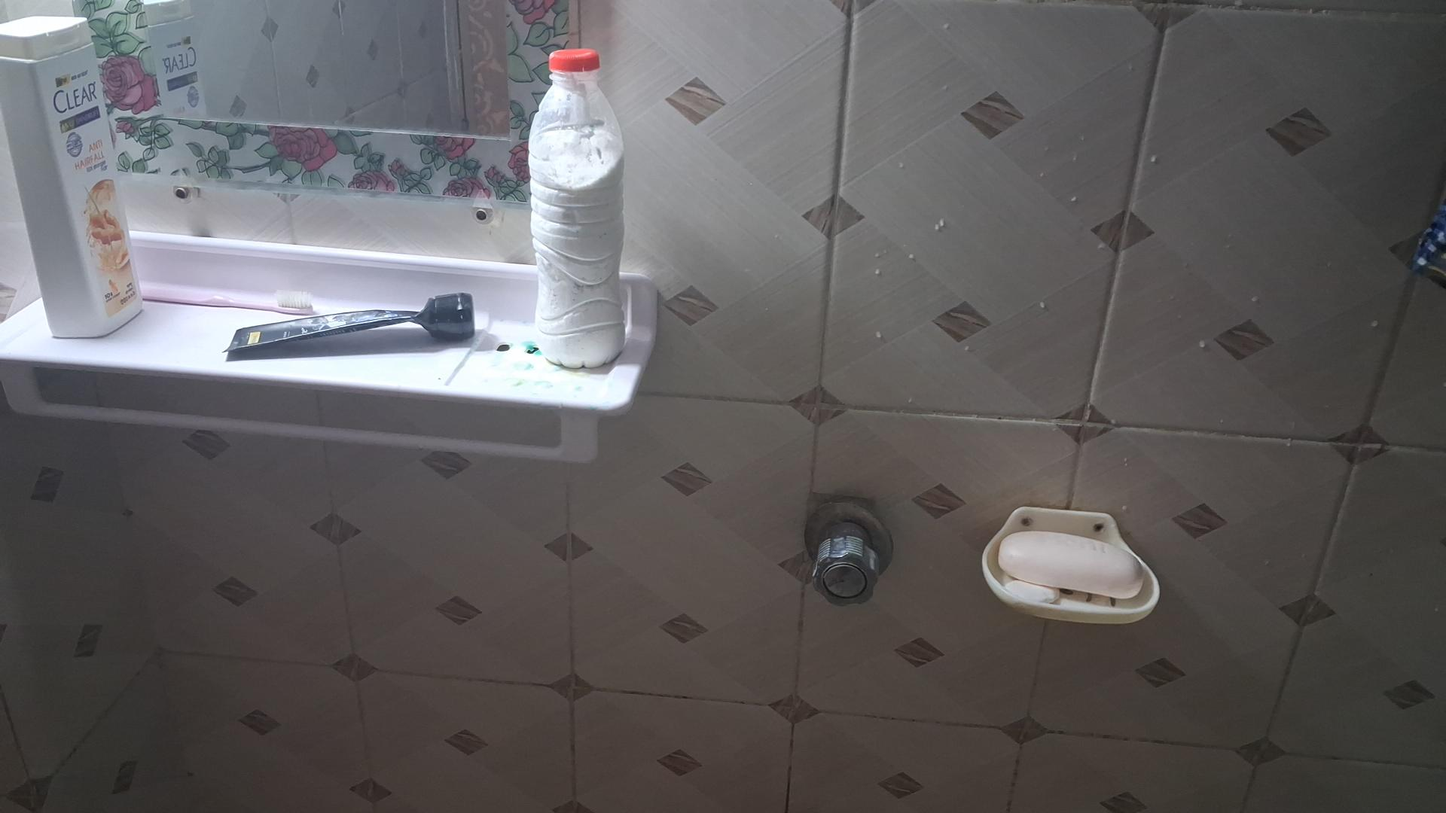Bottle: (0, 19, 153, 339), (528, 48, 628, 371)
Soap: (999, 527, 1139, 605)
